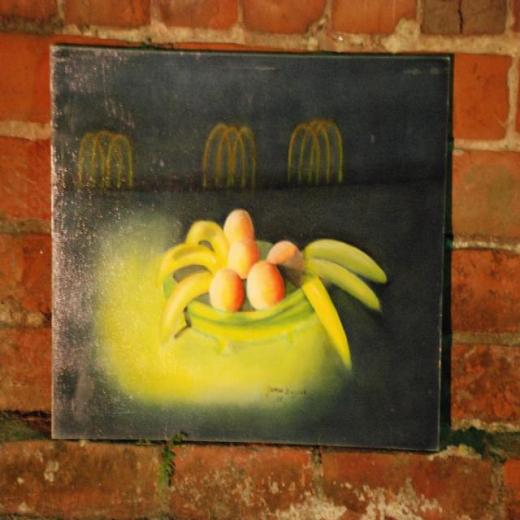Banana: (297, 275, 351, 370), (160, 269, 214, 349), (304, 235, 387, 286), (307, 258, 382, 312), (157, 244, 220, 288), (184, 222, 228, 267)
